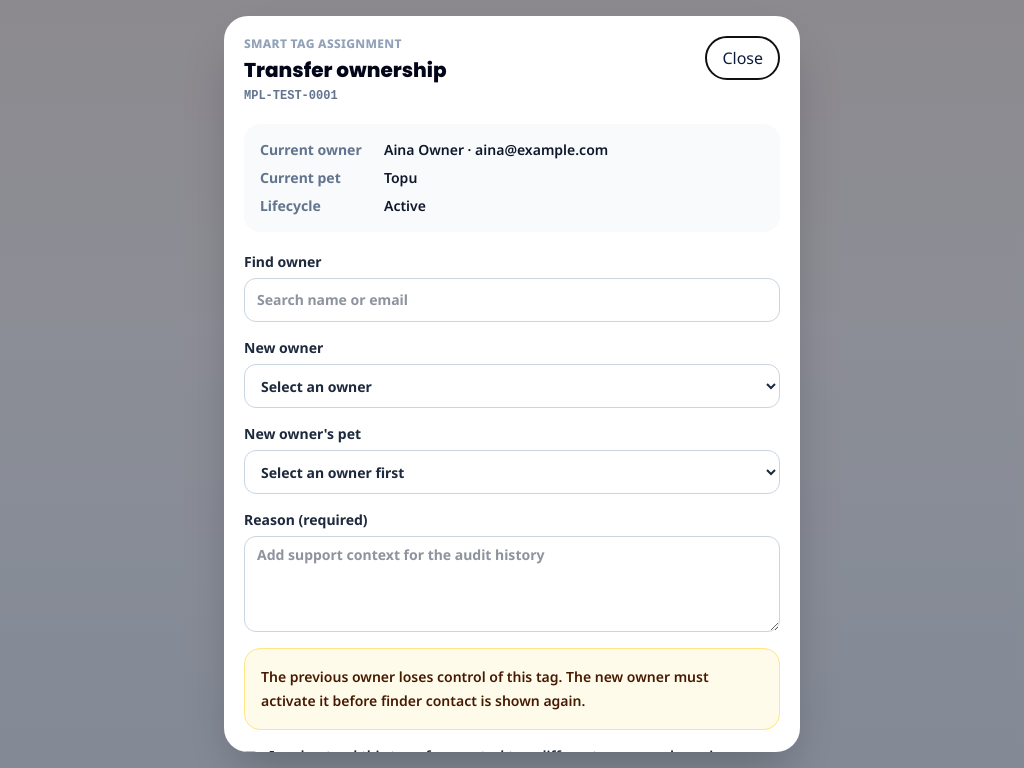
Test case: AdminSmartTagAssignmentDialog › names the outstanding step instead of leaving a transfer button silently dead
Select "Bala Owner · bala@example.com" in the dropdown labelled "New owner": (512, 386) x1=244 y1=364 x2=780 y2=408
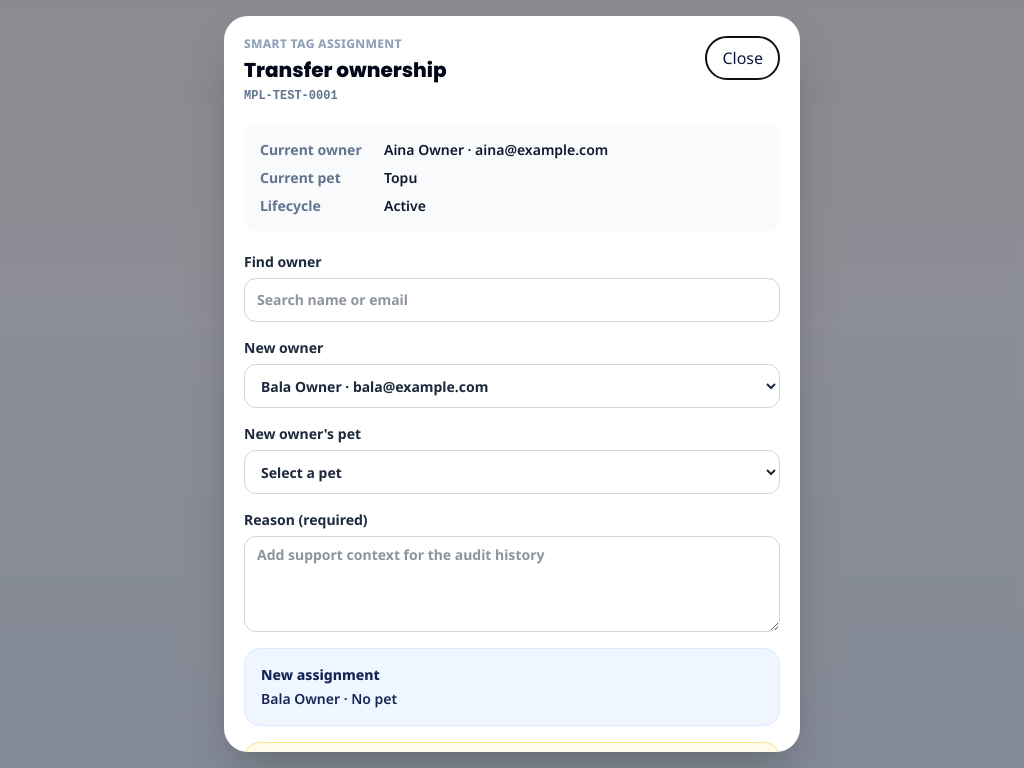
Select "Pepper · Dog · Poodle" in the dropdown labelled "New owner's pet": (512, 472) x1=244 y1=450 x2=780 y2=494
(page scrolled)
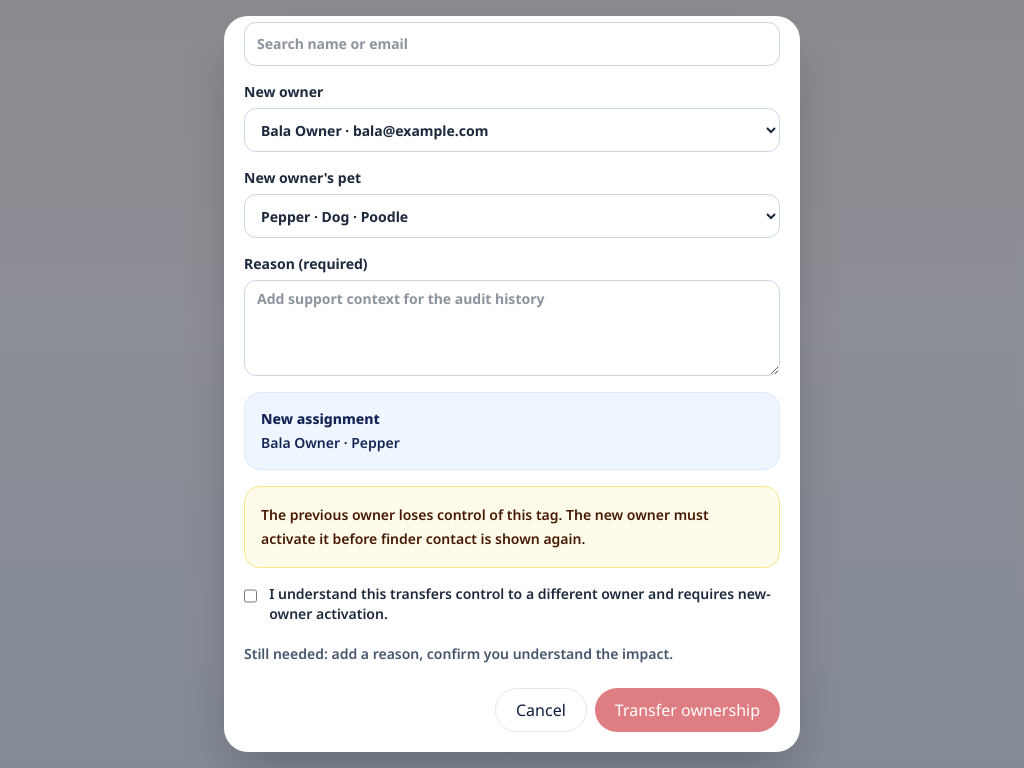
Click the checkbox: (251, 596) x1=244 y1=588 x2=257 y2=604
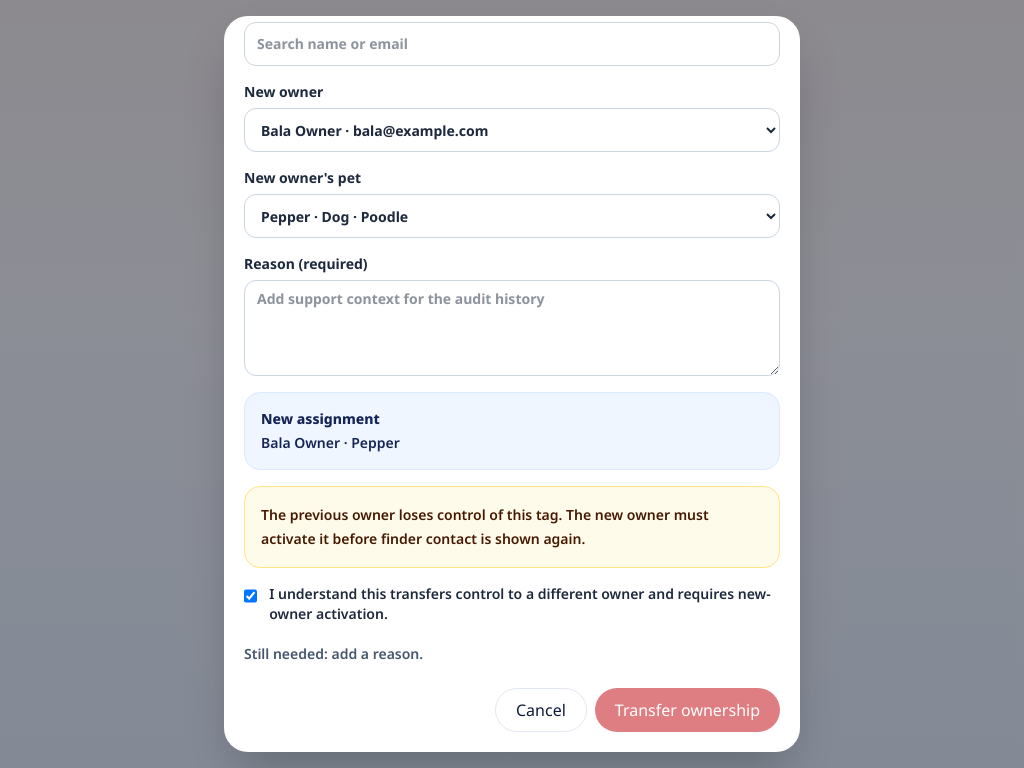
Expected: the button "Transfer ownership" is disabled, x1=595 y1=688 x2=780 y2=732
Expected: the text "Still needed: add a reason." is shown, x1=244 y1=644 x2=423 y2=663
In the text box labelled "Reason (required)": (512, 328) x1=244 y1=280 x2=780 y2=376, type "Verified owner request"
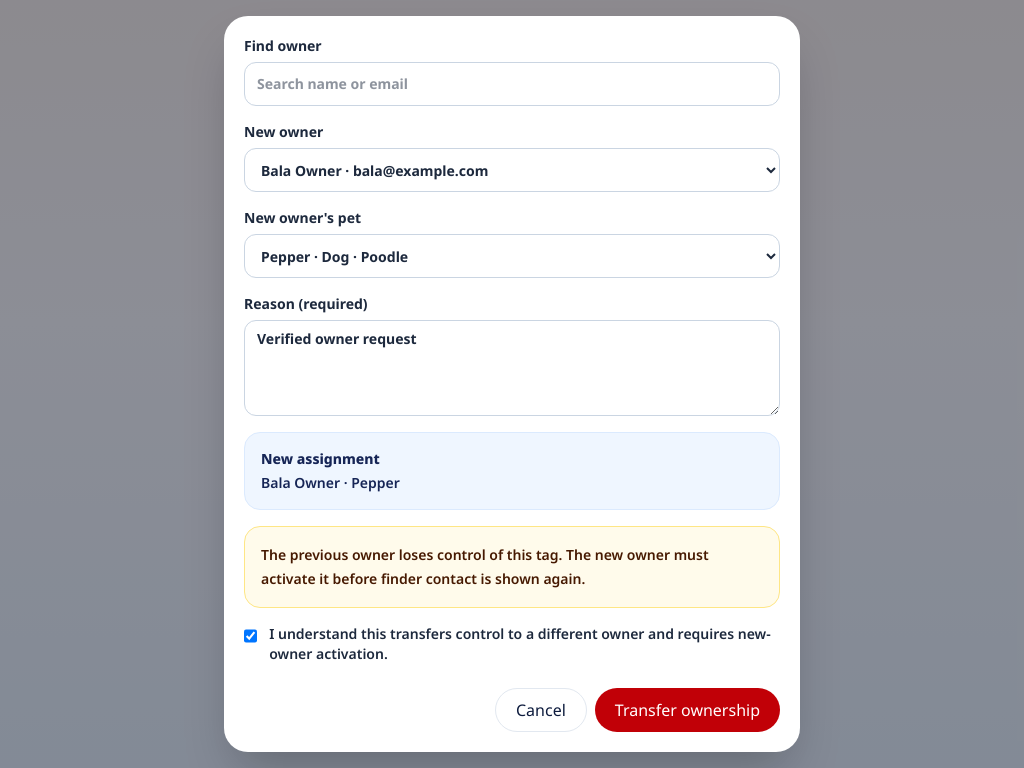
Expected: the button "Transfer ownership" is enabled, x1=595 y1=688 x2=780 y2=732
Expected: the text "Still needed" is gone
